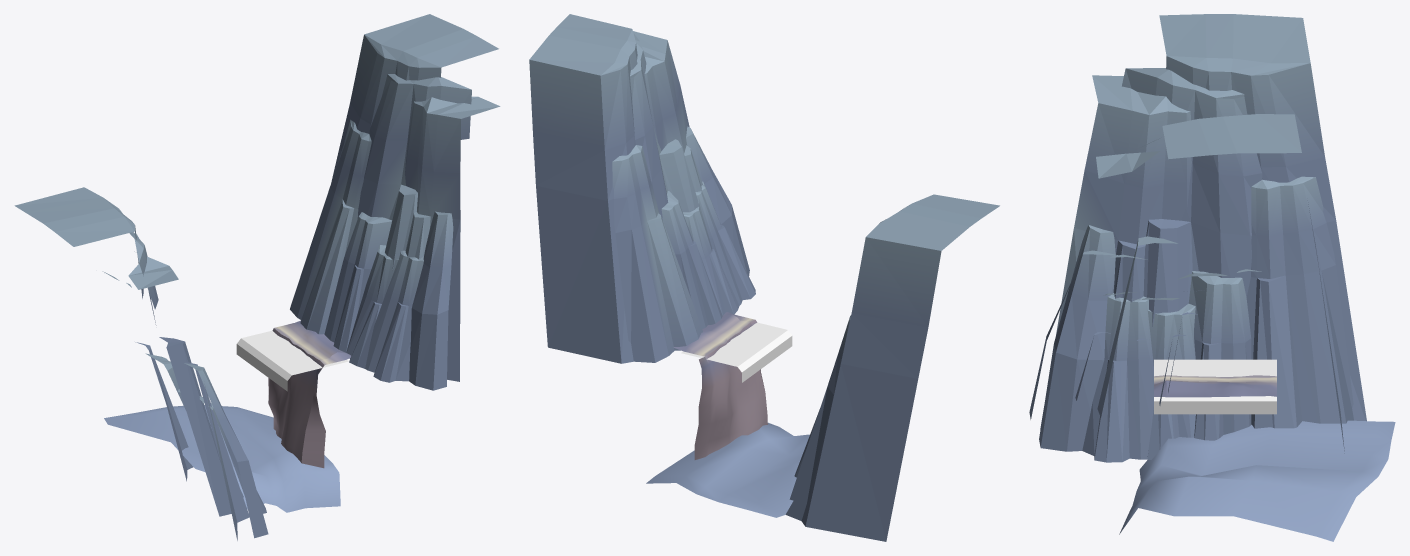
The model's file is Arctic_Narrows_Left_Straight_Short_A.glb.
The picture shows the model from 3 angles, left to right: view 1: azimuth 30°, elevation 25°; view 2: azimuth 150°, elevation 25°; view 3: azimuth 270°, elevation 25°; orthographic projection. The views are drawn at different scales.
Parts seen in each view (by area): view 1: Arctic_Narrows_Left_IceWall_A01 (4), Arctic_Narrows_Left_Straight_Short_A, Arctic_Narrows_Left_IceWall_A01_Right, Arctic_Narrows_Right_IceWall_A02 (2), Arctic_Narrows_Left_IceWall_A01_Left, Arctic_Narrows_Left_IceWall_A01_Mid, inv_fill, Arctic_Narrows_Right_IceWall_A02_Left, Arctic_Narrows_Right_IceWall_A02_Right; view 2: Arctic_Narrows_Left_IceWall_A01 (4), Arctic_Narrows_Right_IceWall_A02 (2), Arctic_Narrows_Left_Straight_Short_A, Arctic_Narrows_Left_IceWall_A01_Left, Arctic_Narrows_Left_IceWall_A01_Right, Arctic_Narrows_Left_IceWall_A01_Mid, inv_fill, Arctic_Narrows_Right_IceWall_A02_Right; view 3: Arctic_Narrows_Right_IceWall_A02 (2), Arctic_Narrows_Left_Straight_Short_A, Arctic_Narrows_Right_IceWall_A02_Right, Arctic_Narrows_Right_IceWall_A02_Left, Arctic_Narrows_Right_IceWall_A02_Mid, Arctic_Narrows_Left_IceWall_A01 (4), inv_fill, Arctic_Narrows_Left_IceWall_A01_Right.
Part boxes in pixels (bbox=[...]): Arctic_Narrows_Left_IceWall_A01 (4): bbox=[331, 14, 500, 381]; Arctic_Narrows_Left_Straight_Short_A: bbox=[104, 320, 350, 512]; Arctic_Narrows_Left_IceWall_A01_Right: bbox=[346, 211, 453, 390]; Arctic_Narrows_Right_IceWall_A02 (2): bbox=[14, 187, 249, 540]; Arctic_Narrows_Left_IceWall_A01_Left: bbox=[290, 120, 371, 334]; Arctic_Narrows_Left_IceWall_A01_Mid: bbox=[324, 212, 391, 352]; inv_fill: bbox=[236, 330, 348, 391]; Arctic_Narrows_Right_IceWall_A02_Left: bbox=[184, 363, 268, 538]; Arctic_Narrows_Right_IceWall_A02_Right: bbox=[102, 271, 193, 481]; Arctic_Narrows_Left_IceWall_A01 (4): bbox=[529, 14, 702, 363]; Arctic_Narrows_Right_IceWall_A02 (2): bbox=[801, 194, 999, 541]; Arctic_Narrows_Left_Straight_Short_A: bbox=[646, 312, 809, 517]; Arctic_Narrows_Left_IceWall_A01_Left: bbox=[612, 145, 702, 362]; Arctic_Narrows_Left_IceWall_A01_Right: bbox=[683, 126, 755, 315]; Arctic_Narrows_Left_IceWall_A01_Mid: bbox=[661, 191, 722, 328]; inv_fill: bbox=[681, 322, 792, 382]; Arctic_Narrows_Right_IceWall_A02_Right: bbox=[785, 315, 850, 520]; Arctic_Narrows_Right_IceWall_A02 (2): bbox=[1040, 14, 1366, 429]; Arctic_Narrows_Left_Straight_Short_A: bbox=[1119, 375, 1395, 541]; Arctic_Narrows_Right_IceWall_A02_Right: bbox=[1246, 176, 1353, 428]; Arctic_Narrows_Right_IceWall_A02_Left: bbox=[1039, 225, 1153, 462]; Arctic_Narrows_Right_IceWall_A02_Mid: bbox=[1147, 271, 1251, 459]; Arctic_Narrows_Left_IceWall_A01 (4): bbox=[1096, 114, 1344, 453]; inv_fill: bbox=[1154, 359, 1276, 414]; Arctic_Narrows_Left_IceWall_A01_Right: bbox=[1029, 250, 1204, 419].
Size of the model in its own units: 24.39 by 21.69 by 14.89.
